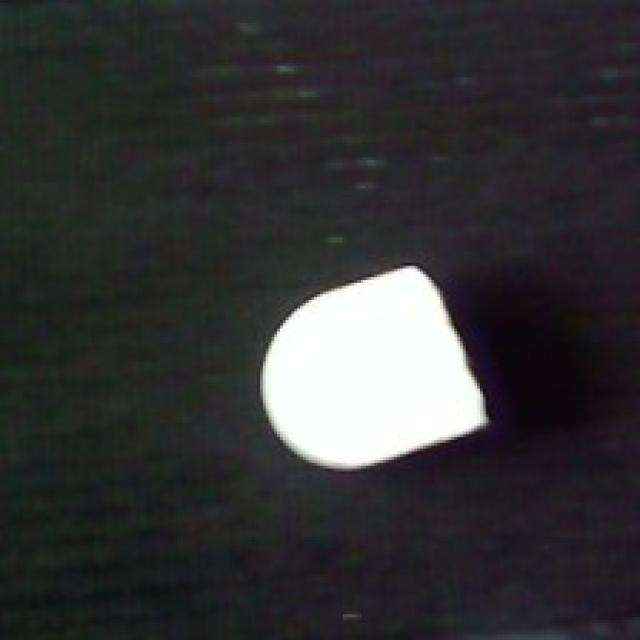defected: (252, 260, 494, 474)
